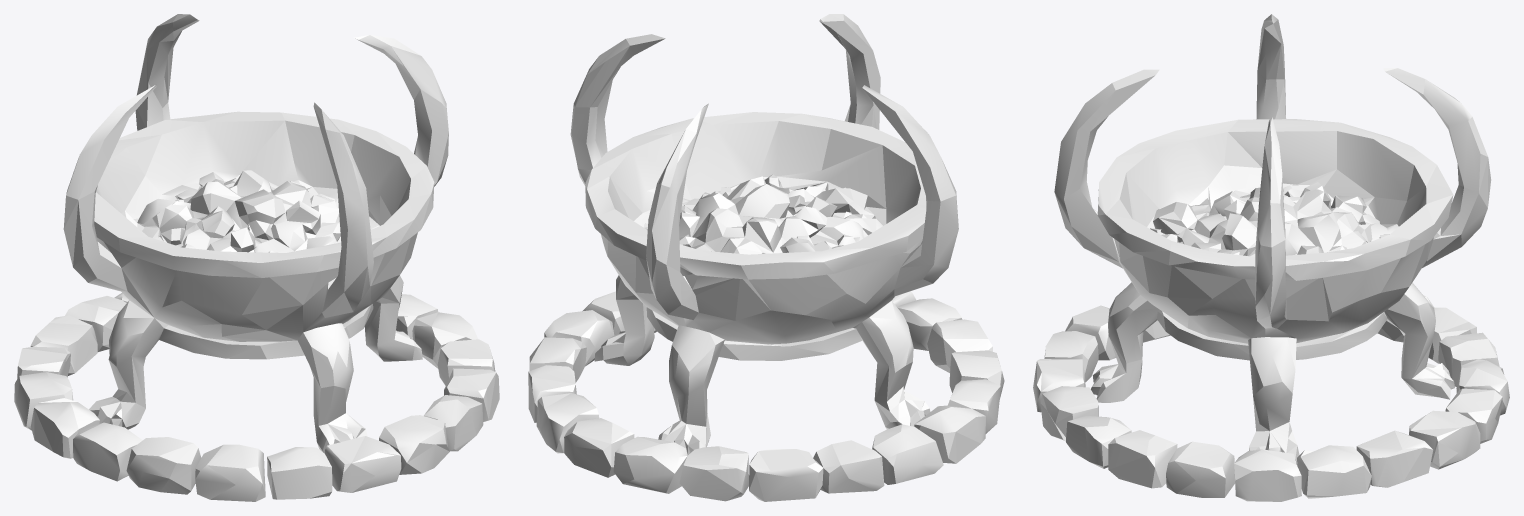
Rendered from brazier_tusk.glb.
3 renders of one model, left to right at view 1: azimuth 30°, elevation 25°; view 2: azimuth 150°, elevation 25°; view 3: azimuth 270°, elevation 25°, orthographic. The views are drawn at different scales.
Visible parts, largest first — view 1: brazier_tusk; view 2: brazier_tusk; view 3: brazier_tusk.
Boxes of the visible parts, x1,y1,x2,y2 form: brazier_tusk: (14, 14, 499, 501); brazier_tusk: (528, 14, 1004, 501); brazier_tusk: (1033, 14, 1509, 501).
Size of the model in its own units: 2.81 by 2.2 by 2.83.
Materials: 1 (1 with a texture image).
